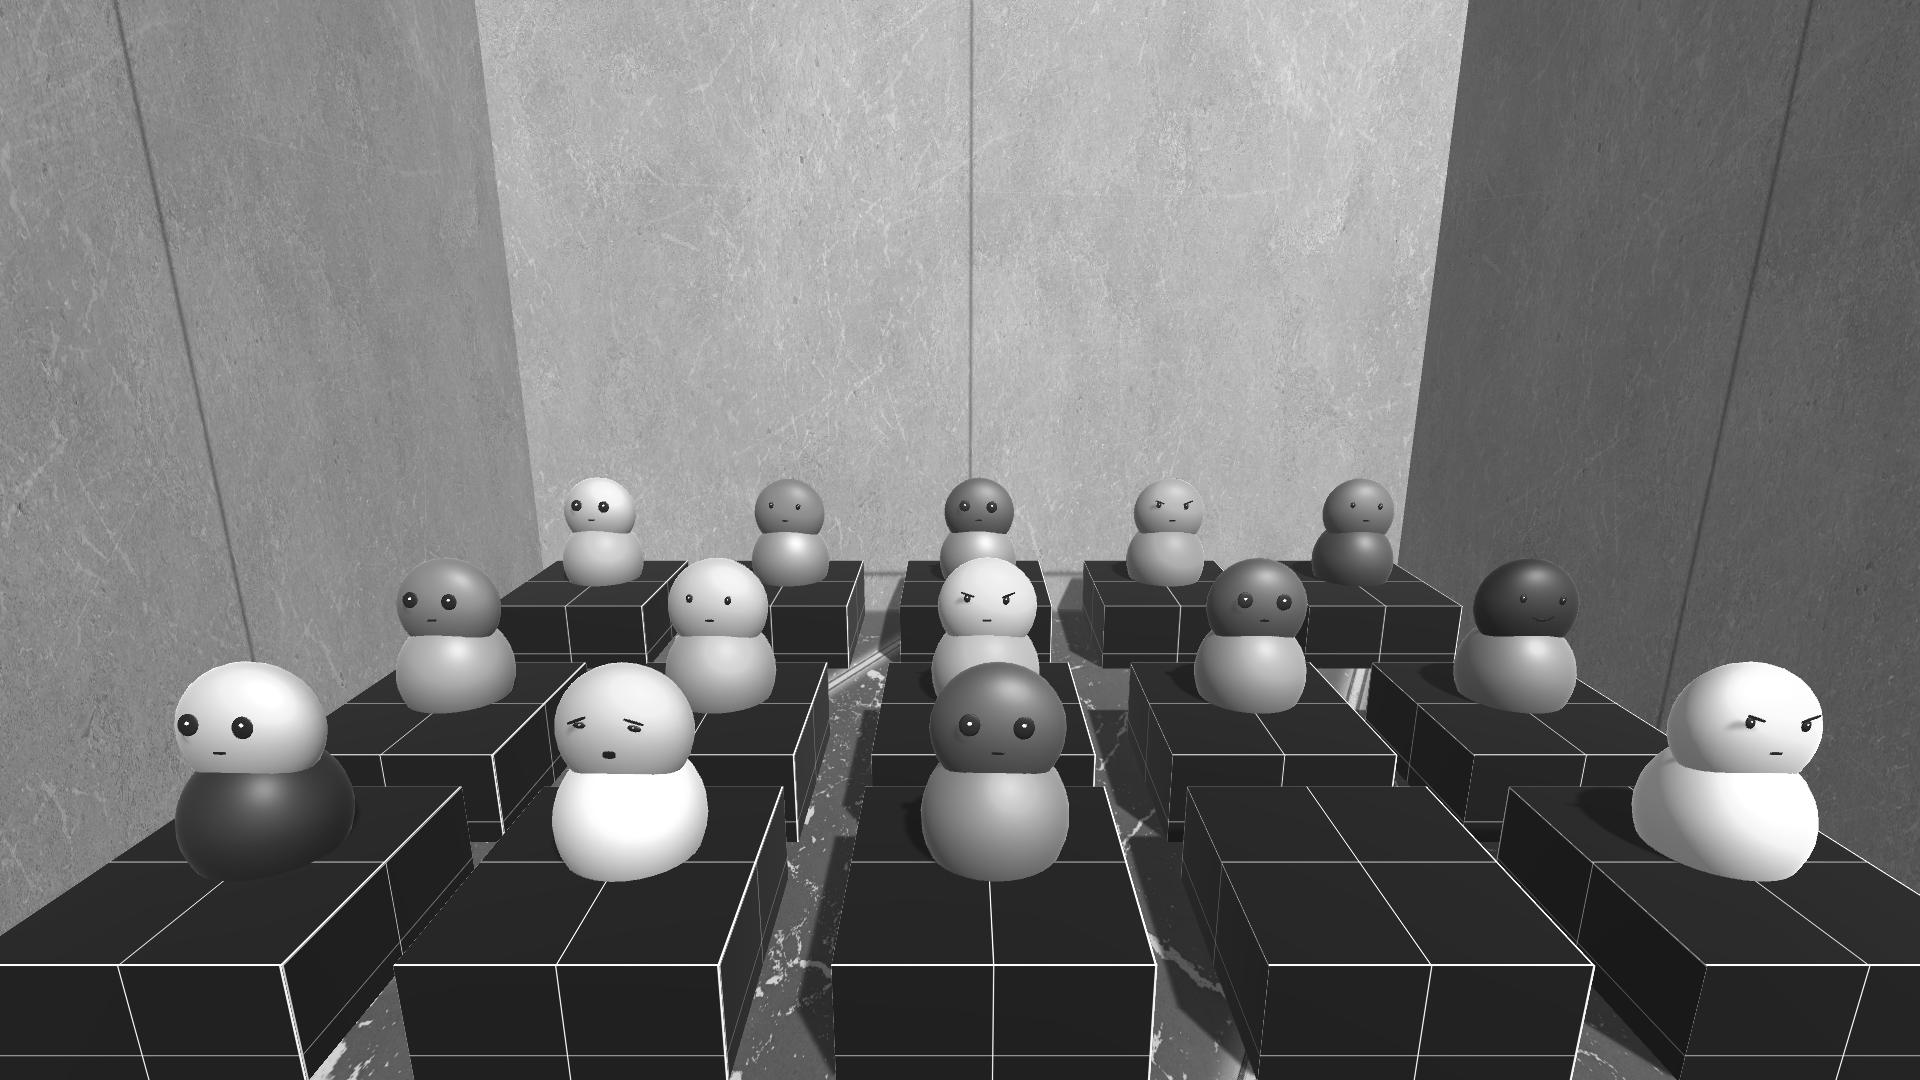blob_atento: (167, 647, 367, 880), (919, 659, 1079, 877), (376, 546, 531, 709), (1189, 554, 1309, 717), (553, 463, 654, 589), (934, 469, 1021, 582)
blob_entediado: (546, 655, 727, 881)
blob_feliz: (1456, 553, 1590, 723)
blob_normal: (659, 564, 766, 716), (1302, 465, 1394, 599), (746, 471, 836, 596)
blob_raiva: (1631, 644, 1847, 907), (916, 549, 1046, 687), (1121, 464, 1209, 603)
